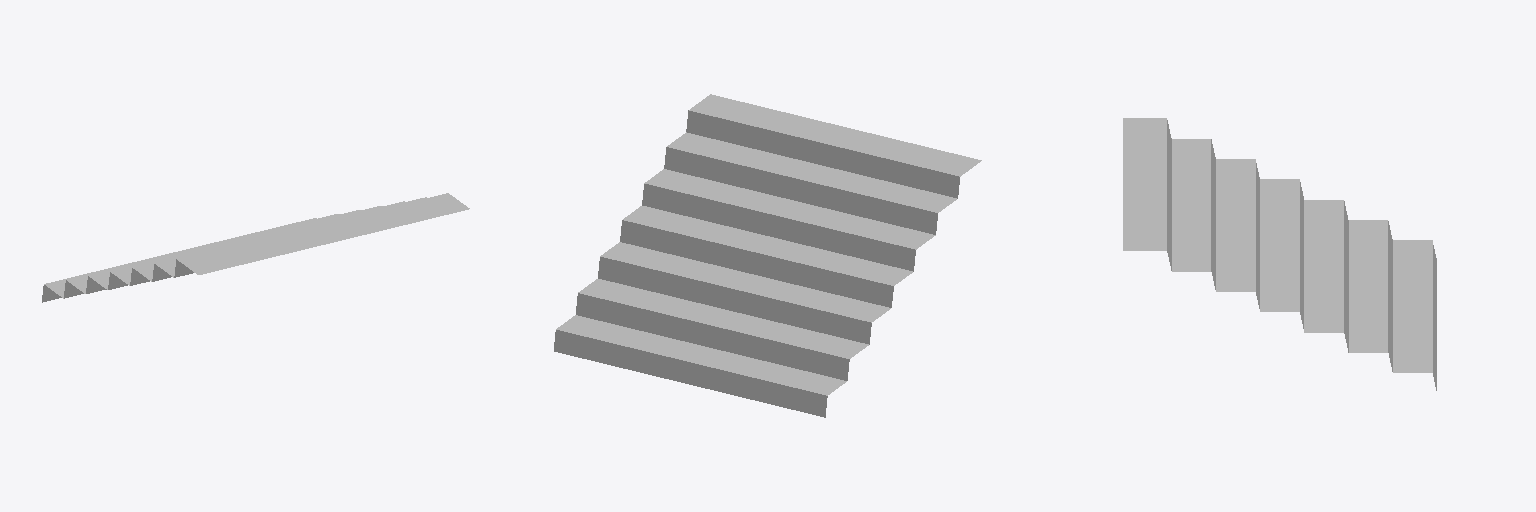
The model's file is stairs_1.obj.
3 views of the same model, side by side, from view 1: azimuth 30°, elevation 25°; view 2: azimuth 150°, elevation 25°; view 3: azimuth 270°, elevation 25° (orthographic).
Parts seen in each view (by area): view 1: stairs_1; view 2: stairs_1; view 3: stairs_1.
Part boxes in pixels (left/top/right/bottom): stairs_1: left=42, top=193, right=469, bottom=302; stairs_1: left=554, top=94, right=981, bottom=417; stairs_1: left=1123, top=118, right=1436, bottom=390.
Bounding box in the file's own units: 2 × 1 × 2.